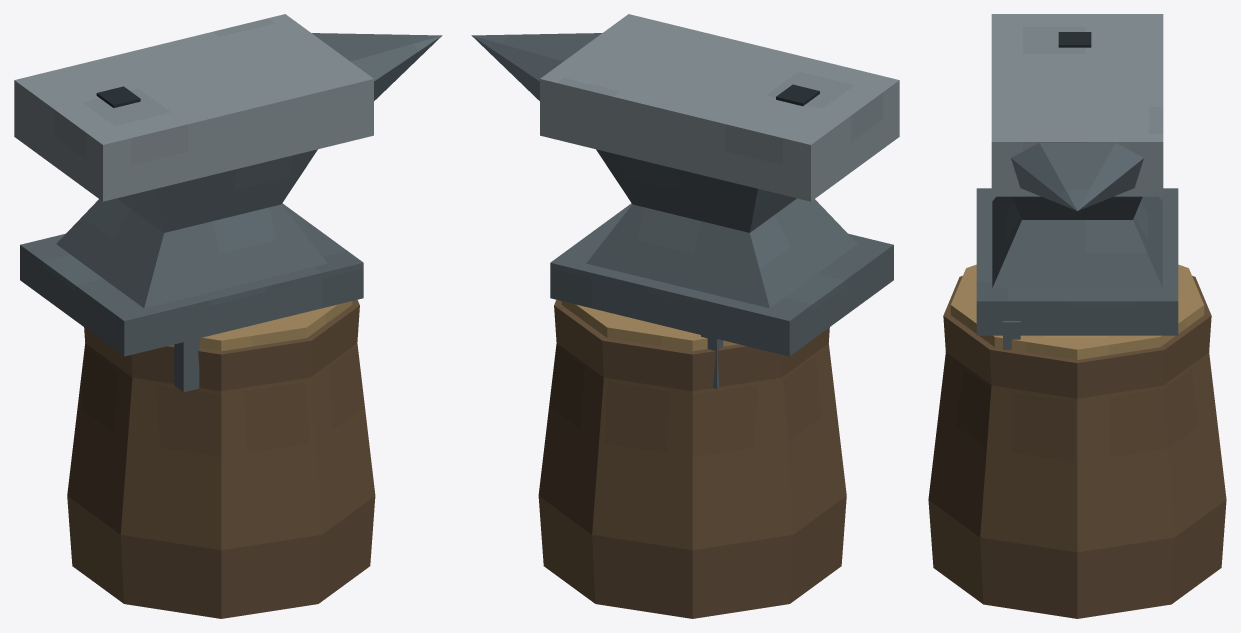
The model's file is anvil.glb.
3 renders of one model, left to right at view 1: azimuth 30°, elevation 25°; view 2: azimuth 150°, elevation 25°; view 3: azimuth 270°, elevation 25°, orthographic. The views are drawn at different scales.
Visible parts, largest first — view 1: faceted-stump-bark, anvil-flat-face, sculpted-anvil-waist, anvil-foot, anvil-tapered-horn, cut-stump-top, stump-fixing-staple, square-hardy-hole; view 2: faceted-stump-bark, anvil-flat-face, sculpted-anvil-waist, anvil-foot, anvil-tapered-horn, cut-stump-top, square-hardy-hole; view 3: faceted-stump-bark, anvil-flat-face, sculpted-anvil-waist, anvil-foot, anvil-tapered-horn, cut-stump-top, square-hardy-hole, stump-fixing-staple.001.
Boxes of the visible parts, x1=… form: faceted-stump-bark: x1=67, y1=300, x2=375, y2=618; anvil-flat-face: x1=14, y1=14, x2=373, y2=201; sculpted-anvil-waist: x1=56, y1=149, x2=327, y2=308; anvil-foot: x1=20, y1=203, x2=363, y2=356; anvil-tapered-horn: x1=312, y1=33, x2=442, y2=100; cut-stump-top: x1=199, y1=301, x2=352, y2=351; stump-fixing-staple: x1=174, y1=338, x2=199, y2=392; square-hardy-hole: x1=96, y1=86, x2=140, y2=107; faceted-stump-bark: x1=538, y1=300, x2=846, y2=618; anvil-flat-face: x1=540, y1=14, x2=899, y2=201; sculpted-anvil-waist: x1=586, y1=149, x2=857, y2=308; anvil-foot: x1=550, y1=203, x2=893, y2=356; anvil-tapered-horn: x1=471, y1=33, x2=601, y2=100; cut-stump-top: x1=561, y1=301, x2=738, y2=351; square-hardy-hole: x1=776, y1=84, x2=819, y2=106; faceted-stump-bark: x1=928, y1=275, x2=1226, y2=618; anvil-flat-face: x1=991, y1=14, x2=1163, y2=196; sculpted-anvil-waist: x1=992, y1=196, x2=1162, y2=288; anvil-foot: x1=976, y1=188, x2=1178, y2=335; anvil-tapered-horn: x1=1011, y1=143, x2=1143, y2=210; cut-stump-top: x1=950, y1=264, x2=1204, y2=359; square-hardy-hole: x1=1058, y1=32, x2=1091, y2=47; stump-fixing-staple.001: x1=1003, y1=321, x2=1020, y2=349.
Size of the model in its own units: 0.85 by 1.03 by 0.5909.
1 material, 1 textured.
